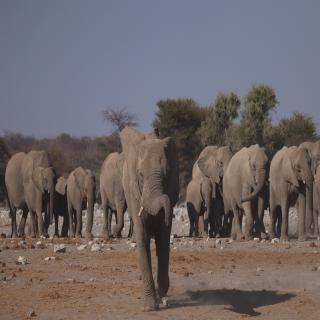Elephant: (117, 124, 186, 318), (222, 143, 271, 245), (269, 140, 315, 246), (191, 140, 236, 223), (64, 164, 100, 240), (24, 165, 60, 238), (184, 172, 214, 240)
